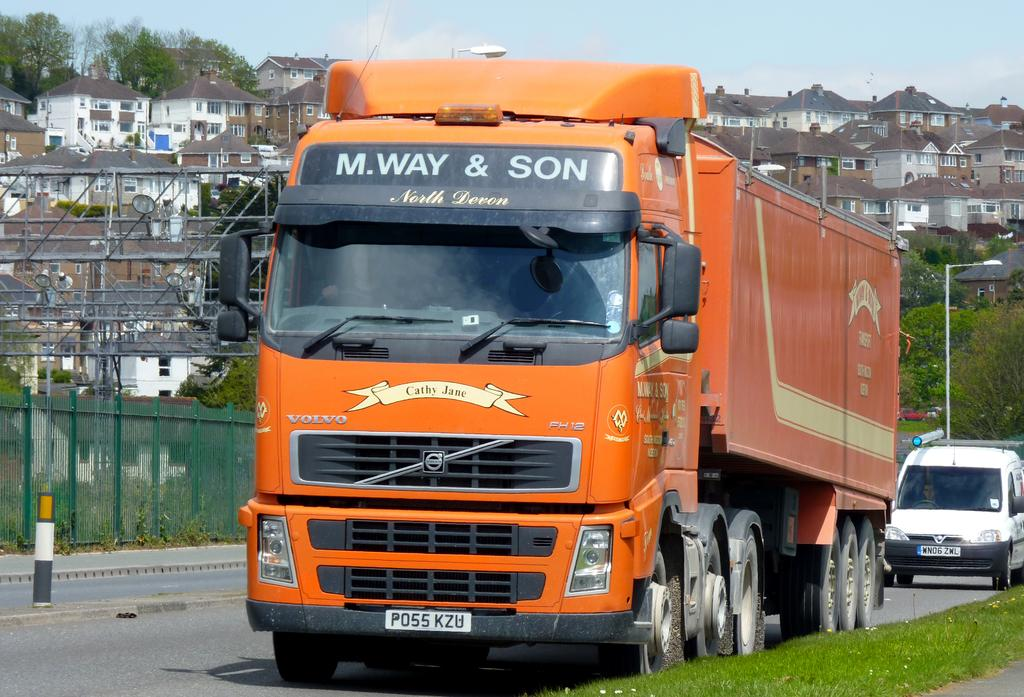vehicle: (217, 59, 901, 683), (886, 445, 1024, 589)
